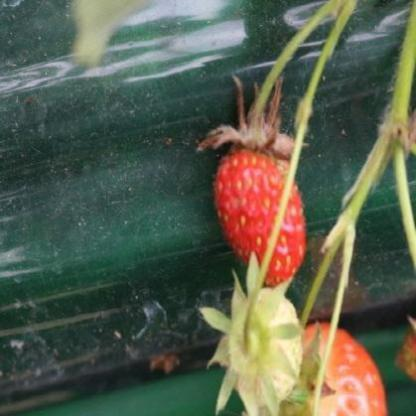Strawberry_Gray_Mold: (193, 75, 310, 169)
